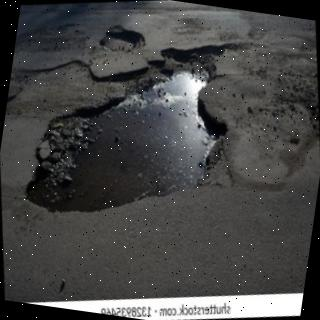pothole: (24, 41, 241, 213), (99, 30, 143, 54)
